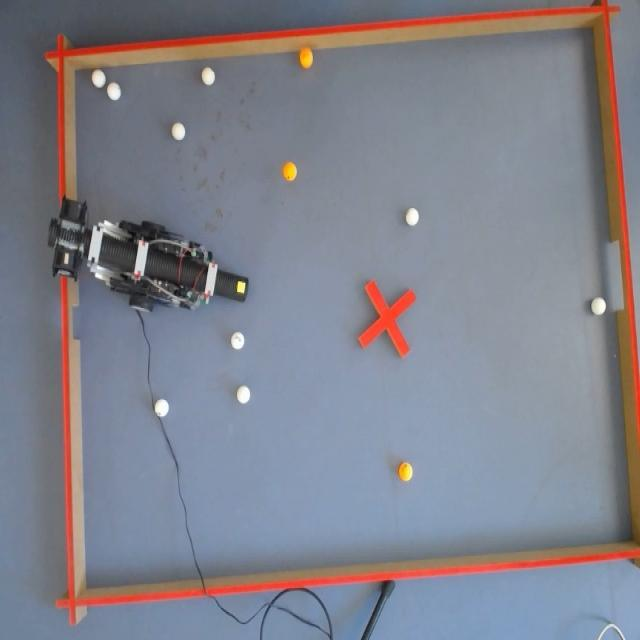orange-golf-balls: (398, 462, 414, 482), (283, 162, 297, 182), (300, 48, 313, 68)
robot: (48, 199, 248, 313)
robot-front: (215, 271, 248, 301)
white-golf-balls: (591, 297, 606, 315), (202, 67, 216, 86), (107, 82, 121, 100), (155, 399, 169, 417), (406, 208, 420, 226), (92, 69, 105, 88), (230, 332, 244, 349), (172, 122, 185, 140), (237, 386, 250, 404)
